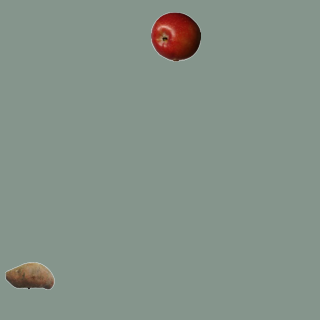Apple Braeburn: (150, 11, 200, 61)
Potato Sweet: (4, 250, 54, 300)
